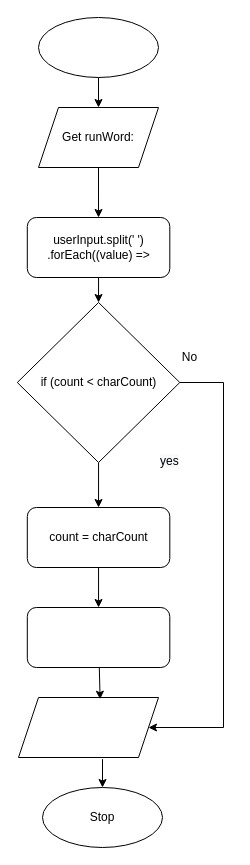
Image size: 250x865. Some labels were removed from this diagram. Each missing label, with the centre of its shape:
maxChar = count: the point at 98,637
return maxChar: the point at 88,727
Start: the point at 98,47
